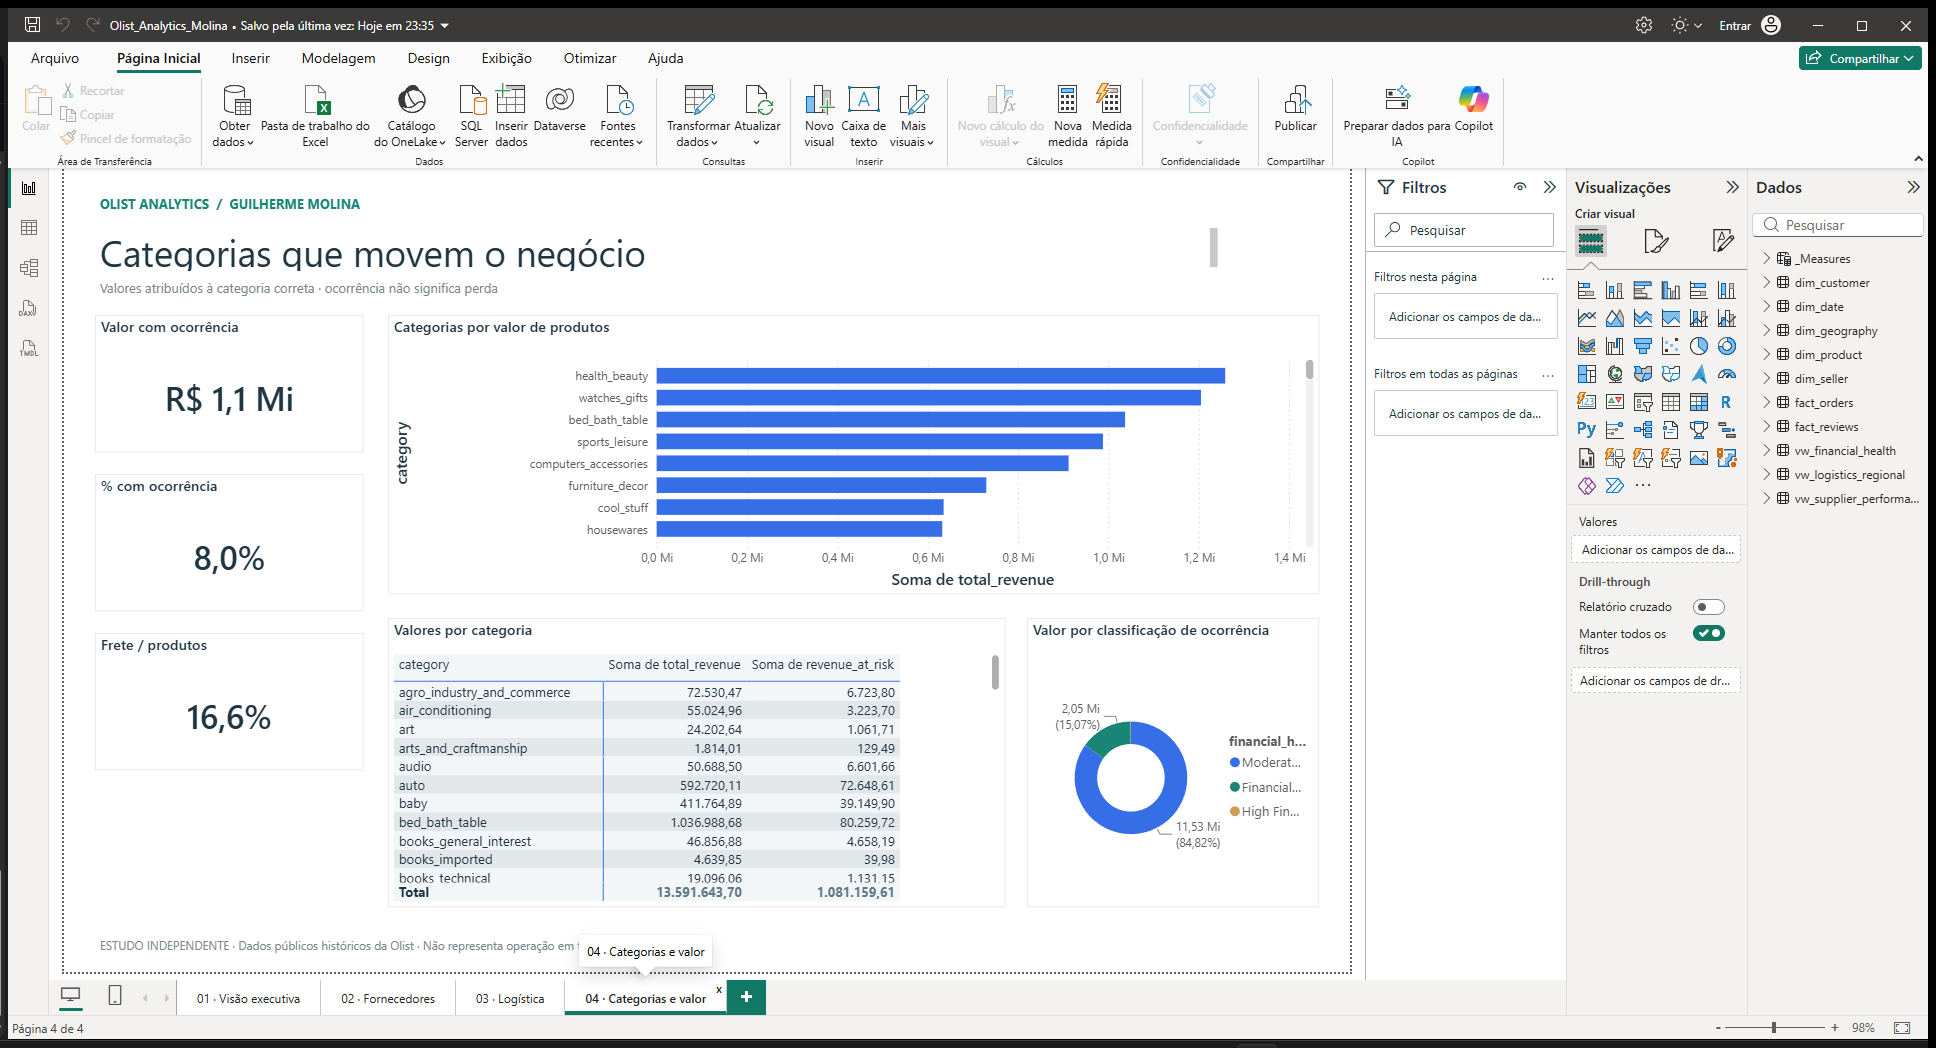

The page's visual inventory and layout, read from the dashboard file:
{"tool":"powerbi","page":{"name":"04 · Categorias e valor","canvas":[1312,820],"ordinal":3},"visuals":[{"type":"card","title":"Valor com ocorrência","fields":{"Values":["_Measures.Revenue at Risk"]},"box":[32,150,274,140],"z":0},{"type":"card","title":"% com ocorrência","fields":{"Values":["_Measures.% Revenue at Risk"]},"box":[32,312,274,140],"z":1000},{"type":"card","title":"Frete / produtos","fields":{"Values":["_Measures.Freight % of Revenue"]},"box":[32,474,274,140],"z":2000},{"type":"barChart","title":"Categorias por valor de produtos","fields":{"Category":["vw_financial_health.category"],"Y":["Sum(vw_financial_health.total_revenue)"]},"box":[330,150,950,285],"z":3000},{"type":"pivotTable","title":"Valores por categoria","fields":{"Rows":["vw_financial_health.category"],"Values":["Sum(vw_financial_health.total_revenue)","Sum(vw_financial_health.revenue_at_risk)"]},"box":[330,459,630,295],"z":4000},{"type":"donutChart","title":"Valor por classificação de ocorrência","fields":{"Category":["vw_financial_health.financial_health_tier"],"Y":["Sum(vw_financial_health.total_revenue)"]},"box":[982,459,298,295],"z":5000},{"type":"textbox","box":[32,22,1120,31],"z":6000},{"type":"textbox","box":[32,56,1150,54],"z":7000},{"type":"textbox","box":[32,108,1200,34],"z":8000},{"type":"textbox","box":[32,778,1220,31],"z":9000}]}

Visuals, with their boxes on the page's 1312x820 design canvas (x1, y1, x2, y2). These are canvas units, not pixel positions in the 1936x1048 screenshot, which may show the page scaled, cropped or inside an application window:
"Valor com ocorrência" card: l=32, t=150, r=306, b=290
"% com ocorrência" card: l=32, t=312, r=306, b=452
"Frete / produtos" card: l=32, t=474, r=306, b=614
"Categorias por valor de produtos" barChart: l=330, t=150, r=1280, b=435
"Valores por categoria" pivotTable: l=330, t=459, r=960, b=754
"Valor por classificação de ocorrência" donutChart: l=982, t=459, r=1280, b=754
textbox: l=32, t=22, r=1152, b=53
textbox: l=32, t=56, r=1182, b=110
textbox: l=32, t=108, r=1232, b=142
textbox: l=32, t=778, r=1252, b=809
